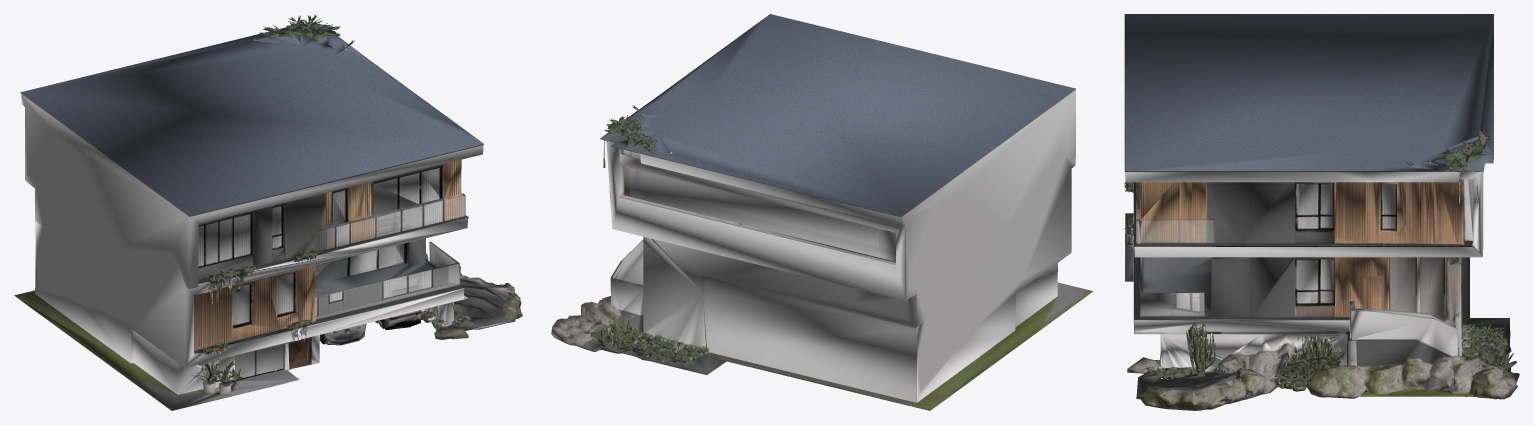
Rendered from villa-mid.glb.
3 views of the same model, side by side, from view 1: azimuth 30°, elevation 25°; view 2: azimuth 150°, elevation 25°; view 3: azimuth 270°, elevation 25° (orthographic). The views are drawn at different scales.
Parts seen in each view (by area): view 1: mesh_node; view 2: mesh_node; view 3: mesh_node.
Part boxes in pixels (x1=…): mesh_node: x1=14, y1=14, x2=522, y2=410; mesh_node: x1=551, y1=14, x2=1093, y2=410; mesh_node: x1=1123, y1=14, x2=1519, y2=410.
Bounding box in the file's own units: 2 × 1.06 × 1.68.
Materials: 1 (1 with a texture image).
